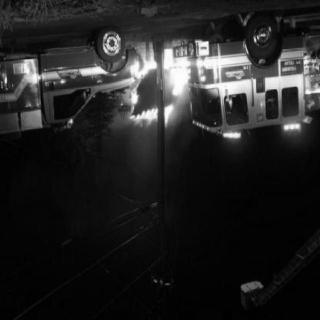Fire: (120, 39, 197, 136)
other: (281, 115, 307, 137), (222, 126, 245, 140)
